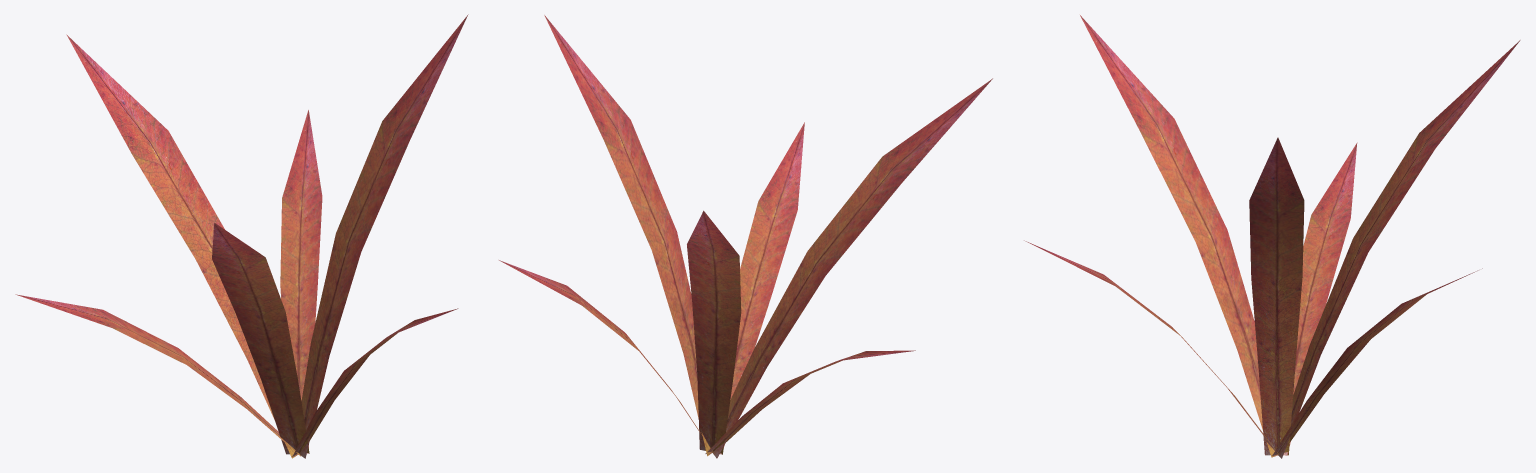
Rendered from plant_012.dae.
3 views of the same model, side by side, from view 1: azimuth 30°, elevation 25°; view 2: azimuth 150°, elevation 25°; view 3: azimuth 270°, elevation 25° (orthographic).
Visible parts, largest first — view 1: Plant_012; view 2: Plant_012; view 3: Plant_012.
Part boxes in pixels (bbox=[...]): Plant_012: bbox=[15, 14, 468, 458]; Plant_012: bbox=[499, 15, 992, 458]; Plant_012: bbox=[1024, 15, 1520, 458].
Size of the model in its own units: 1.67 by 1.54 by 1.73.
